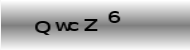6: (108, 9, 121, 24)
Q: (33, 20, 50, 36)
Z: (83, 18, 98, 32)
c: (68, 21, 79, 31)
w: (54, 21, 71, 31)
